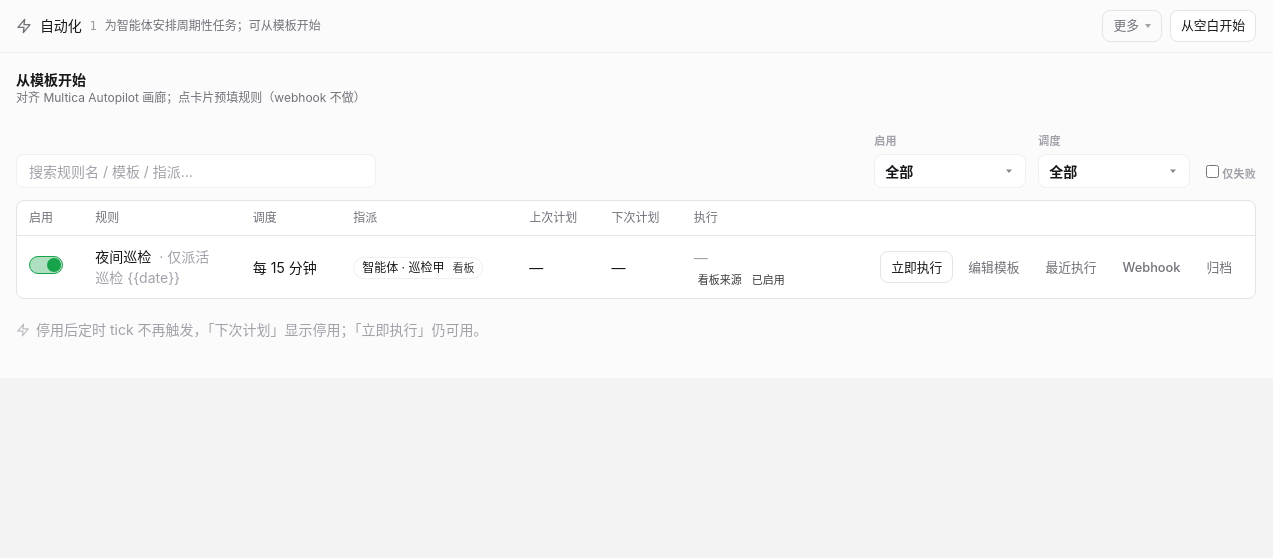
Test case: AutomationPage webhook section › an archived rule keeps the section readable but stops offering actions
The width and height of the screenshot is (1273, 558).
Click the button with test id "automation-webhook-toggle-rule-1": point(1151, 267) [1112,251,1191,283]
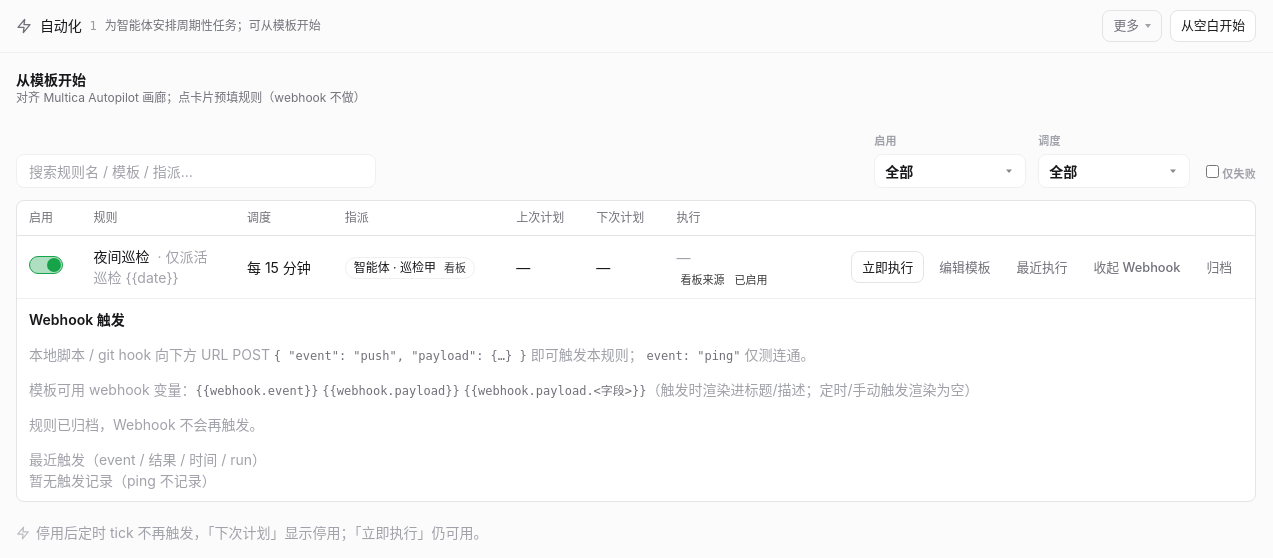
Now the element with test id "automation-webhook-section" is shown, box [29,311,979,489]
Now the element with test id "automation-webhook-section" shows "规则已归档，Webhook 不会再触发", box [29,416,264,433]
